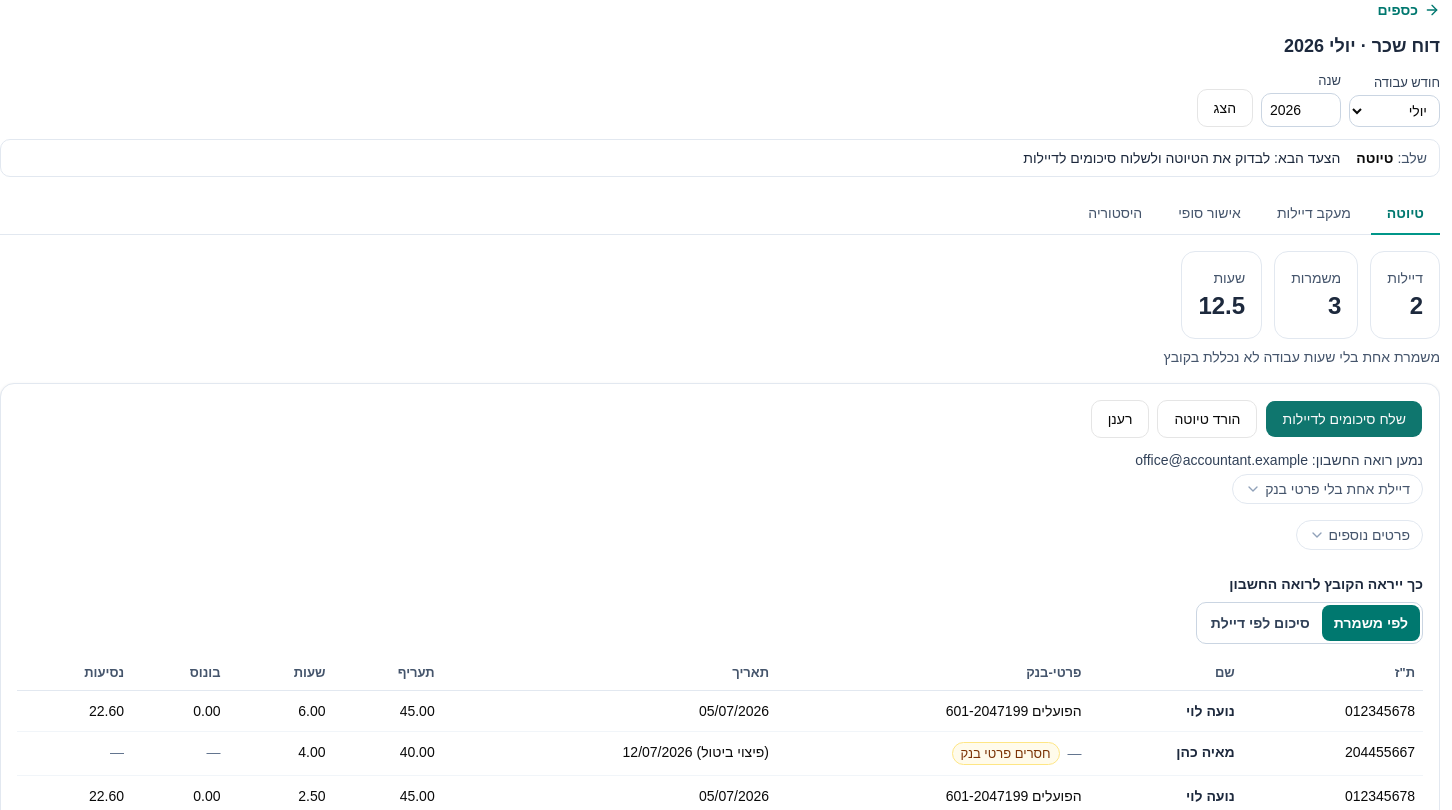
טיוטה: מתג "לפי משמרת | סיכום לפי דיילת" = גיליון 2 של הקובץ (כרטיס 14/10) › מעבר לסיכום: עמודות גיליון 2, דיילת לשורה לפי שם, סה"כ משמרות ושעות; המצב בכתובת
Expected: the button with test id "payroll-sheet-shift" reads "לפי משמרת", [1322,605,1420,641]
Click the button with test id "payroll-sheet-hostess" at (1260, 623), box [1199,605,1322,641]
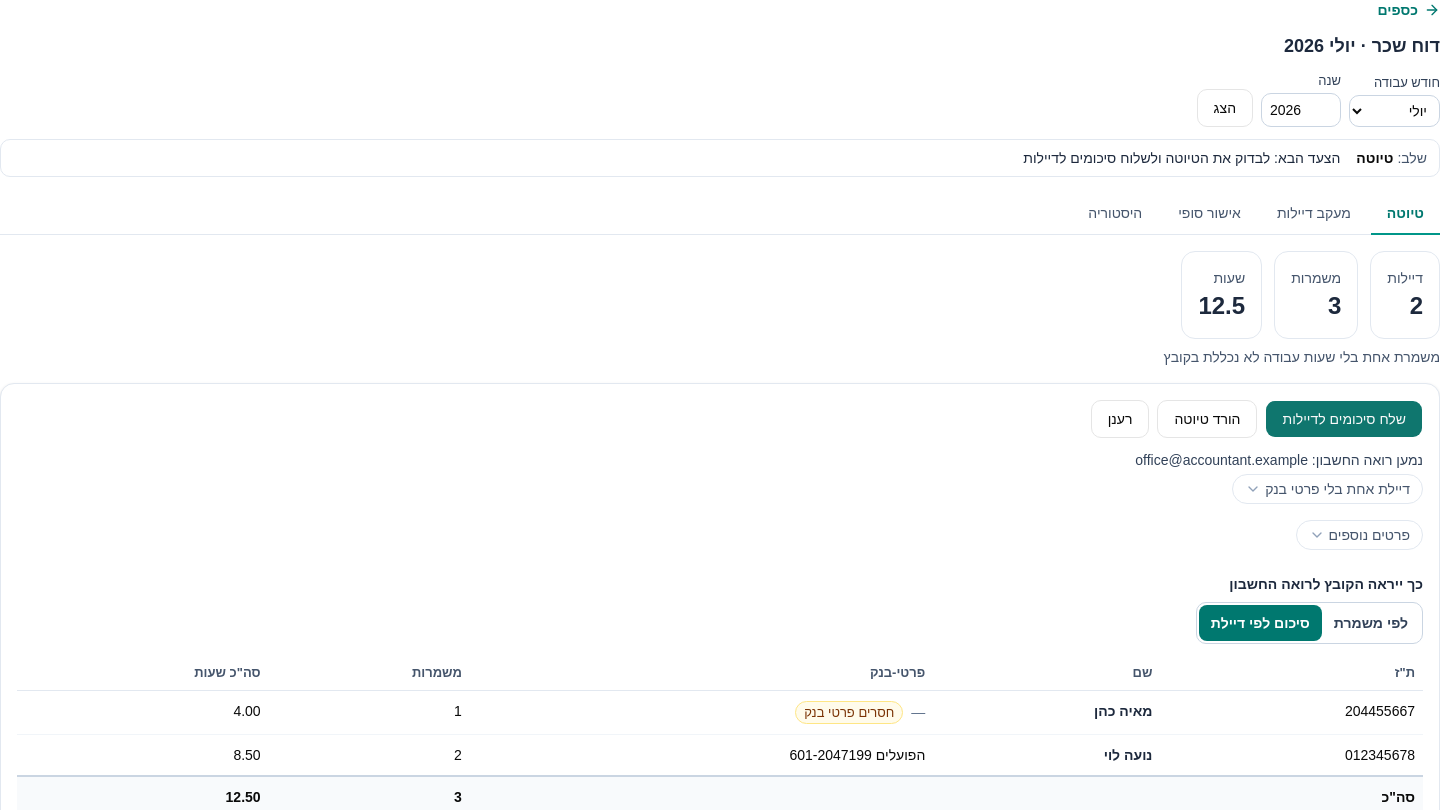
Expected: the column headings read "ת\"ז", "שם", "פרטי-בנק", "משמרות", "סה\"כ שעות", in this order, [1160,656,1423,690]; [933,656,1160,690]; [470,656,933,690]; [269,656,470,690]; [17,656,269,690]
Click the button with test id "payroll-sheet-shift" at (1371, 623), box [1322,605,1420,641]
(page scrolled)
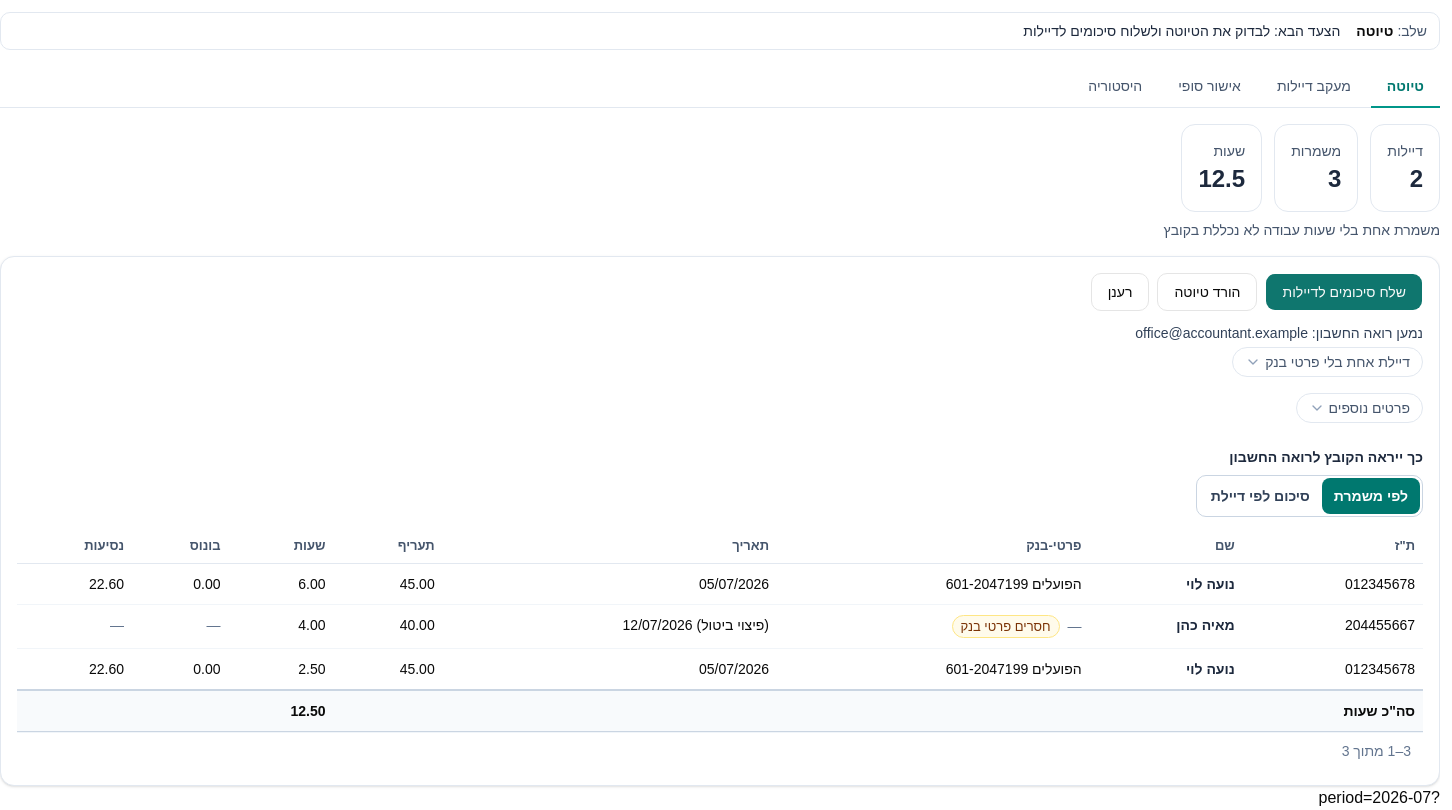
Expected: the table with test id "payroll-draft-table" is shown, [17,529,1423,732]
